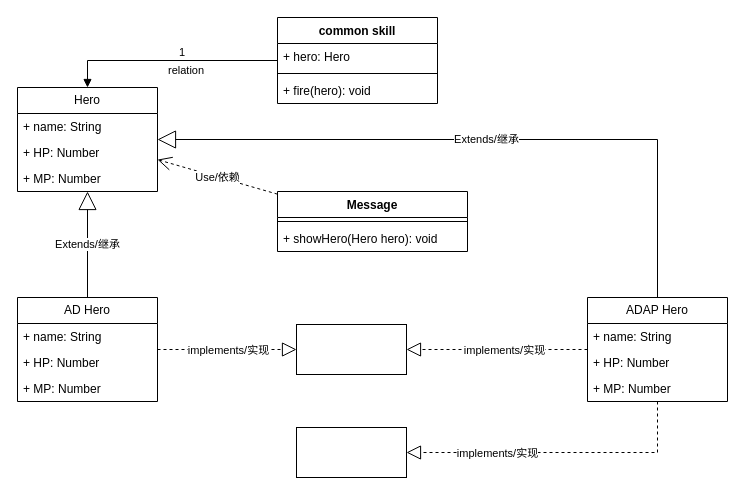
Some shapes in this 745 by 495 pixel diagram are drawn without their labels. The centre of each missing label's shape, as x and y in pixels:
"«interface» AD" goes at (351,349).
"«interface» AP" goes at (351,452).
